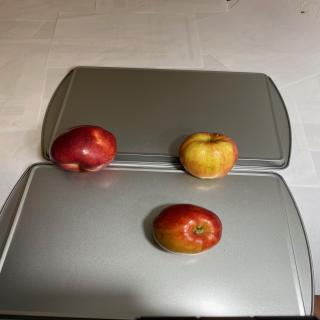Apple: (152, 203, 222, 256), (49, 125, 117, 173), (178, 132, 239, 179)
